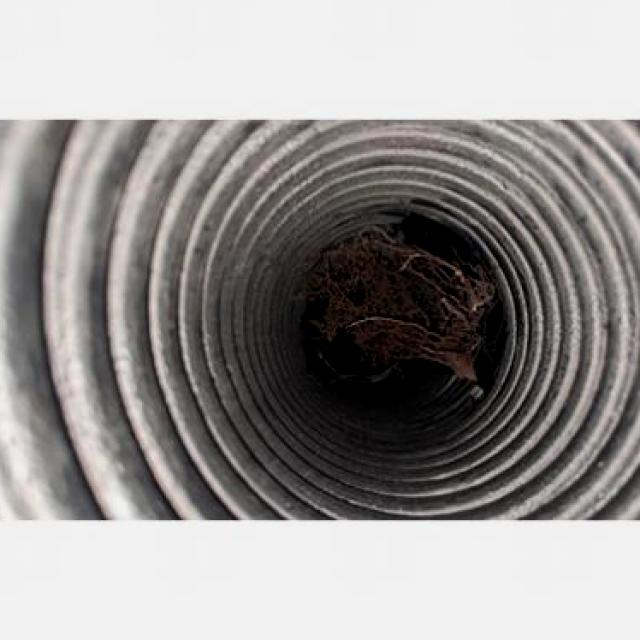root: (327, 256, 492, 364)
